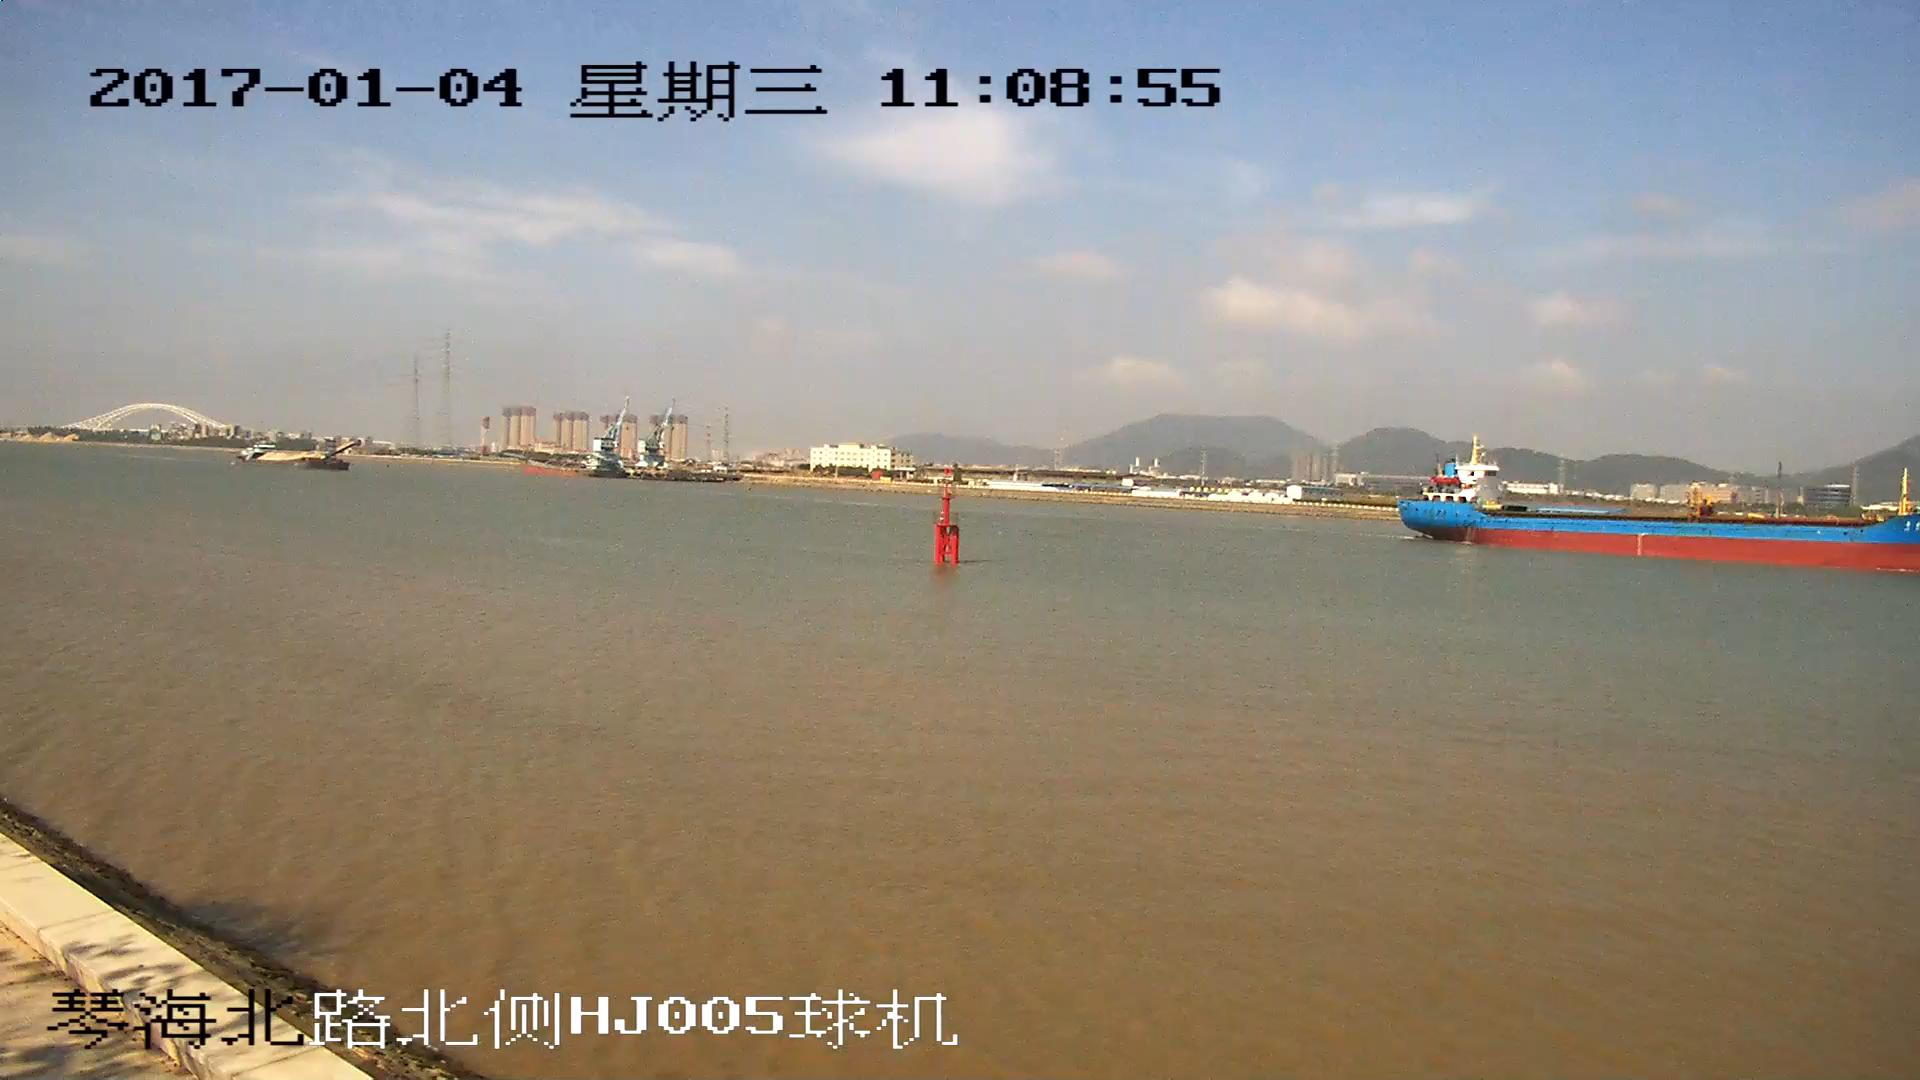general cargo ship: (1403, 442, 1920, 572)
